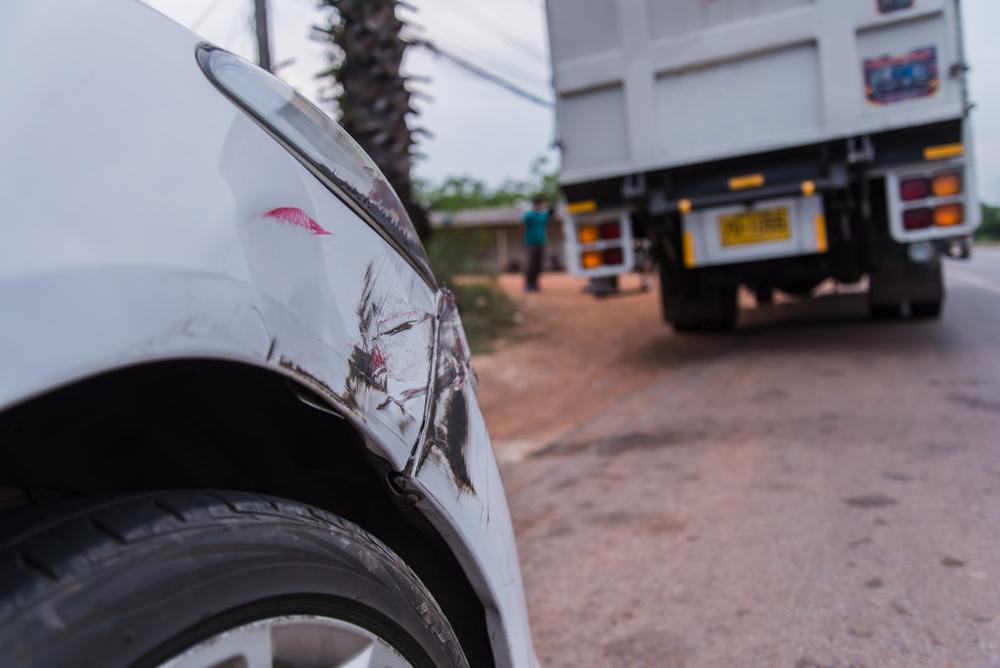scratch: (264, 253, 429, 466), (416, 289, 476, 500), (259, 201, 335, 238)
